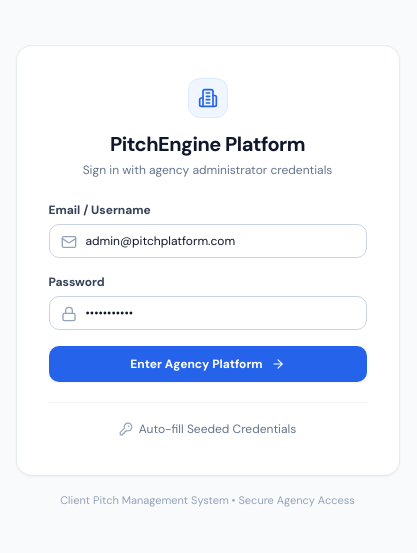
Test case: Login Component › displays error alert when invalid credentials are submitted
Step 1. Click the button "Enter Agency Platform" → (208, 364), box [48,346,366,382]
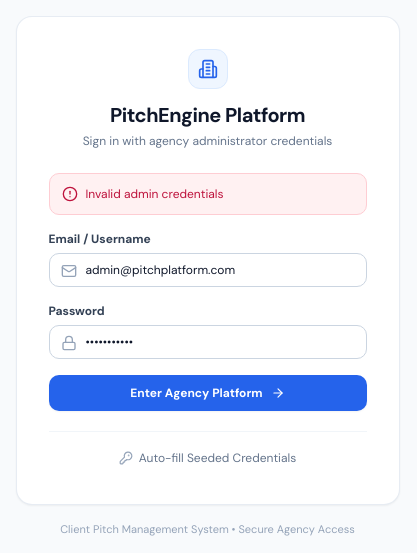
expect the text "Invalid admin credentials" is shown: met, box [86,186,224,202]
